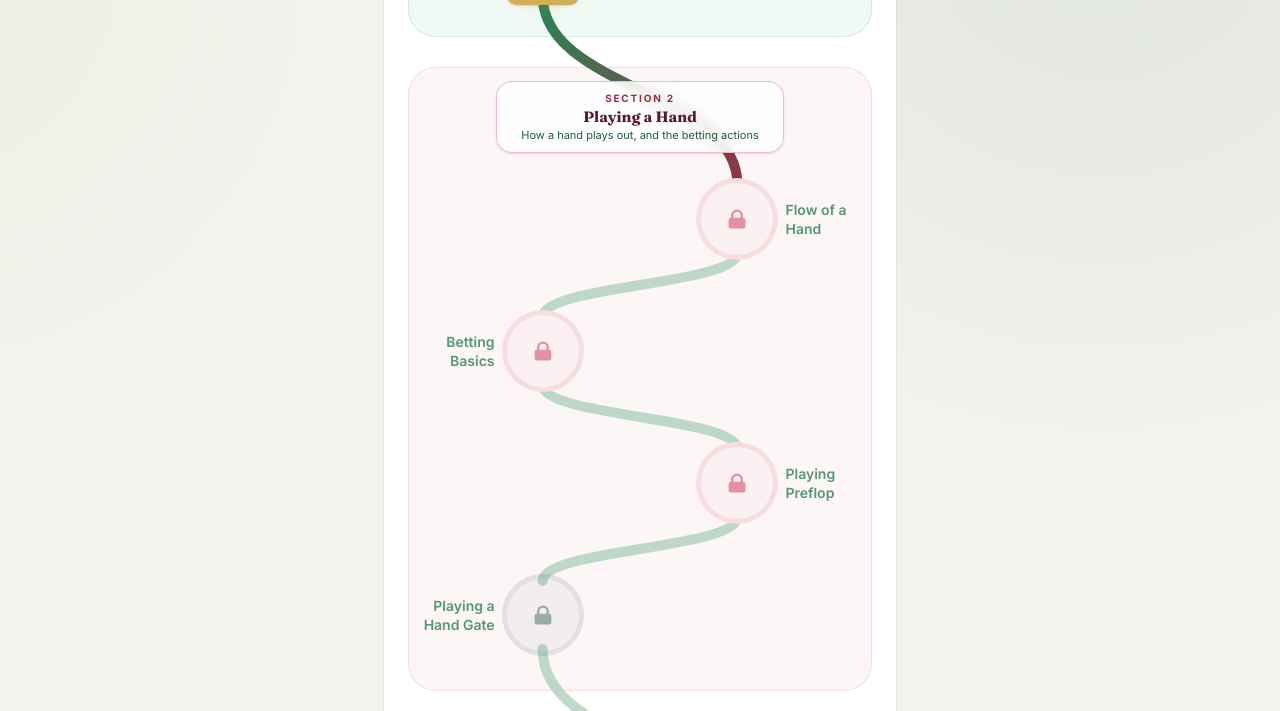
Test: CoursePath — the section gate node is reachable from the path › a locked within-section lesson keeps the sequential "previous lesson" message
(page scrolled)
// Lesson 4 (Betting Basics) is NOT a section boundary — it waits on lesson 3.
Click the button named "Lesson 4: Betting Basics".
click(542, 351)  # box top-left (506, 315), bottom-right (578, 387)
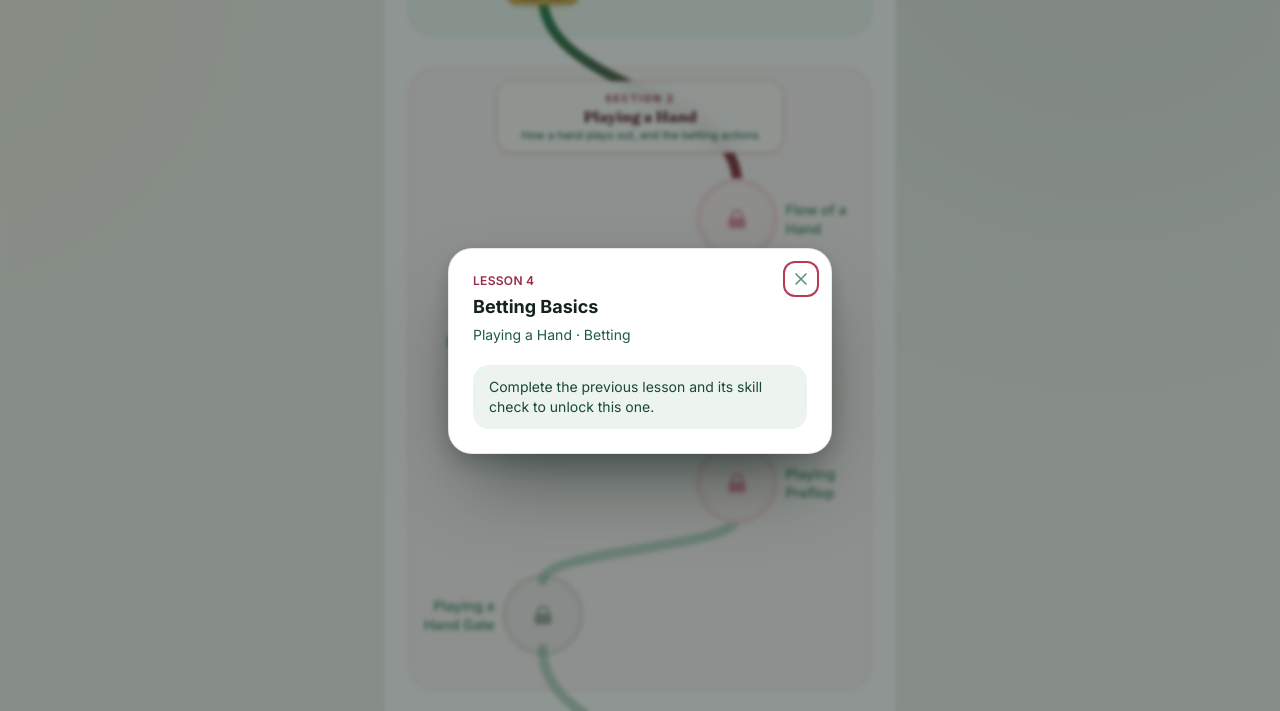
Now the text "Complete the previous lesson and its skill check" is shown, box top-left (489, 378), bottom-right (762, 415)
